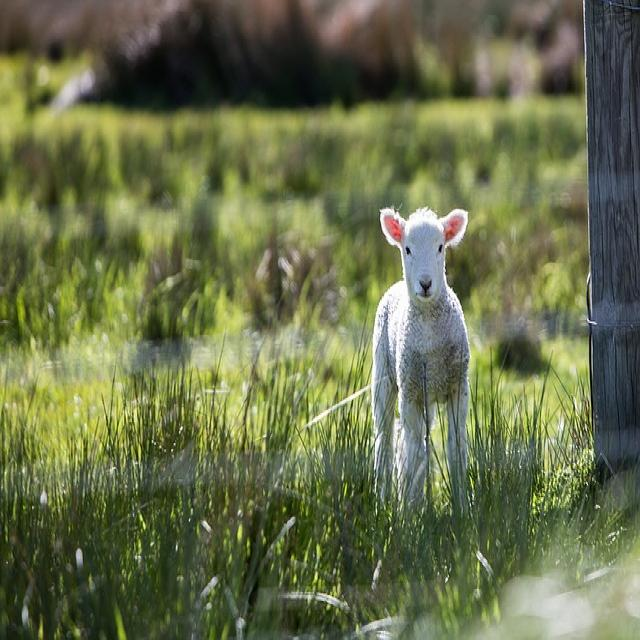goat: (371, 208, 469, 504)
